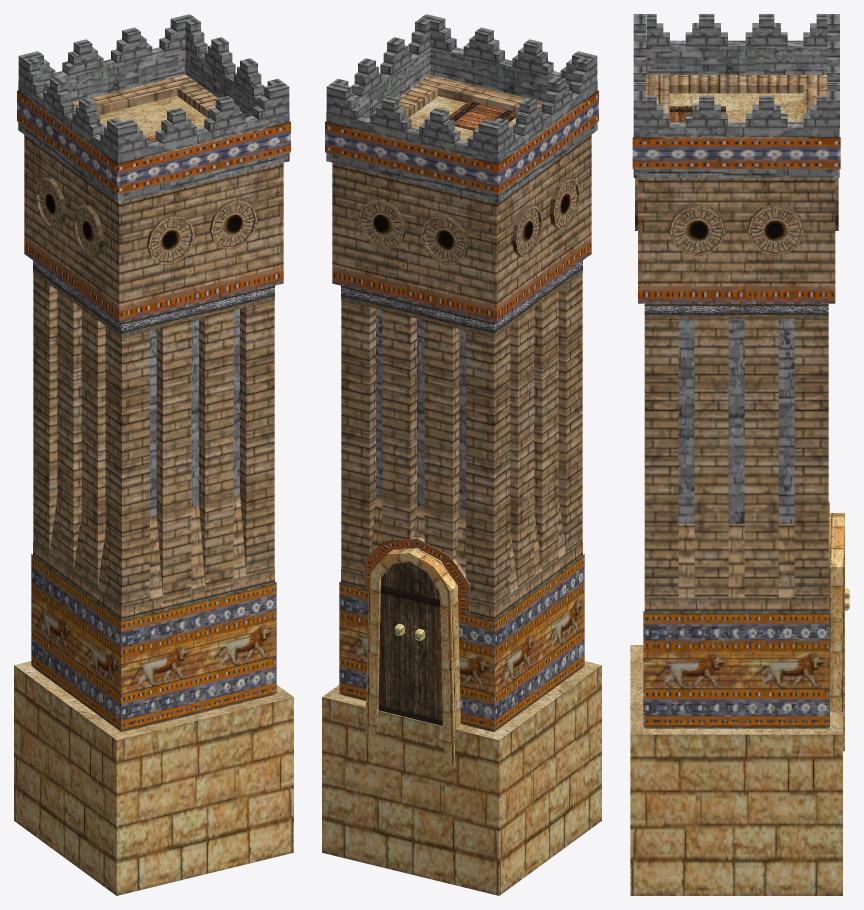
File: baby_defense_tower.glb
The picture shows the model from 3 angles, left to right: view 1: azimuth 30°, elevation 25°; view 2: azimuth 150°, elevation 25°; view 3: azimuth 270°, elevation 25°; orthographic projection. The views are drawn at different scales.
Size of the model in its own units: 6.74 by 27.83 by 6.97.
1 material, 1 textured.
